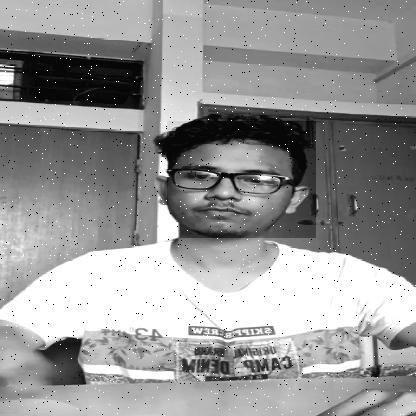Normal: (167, 121, 316, 238)
